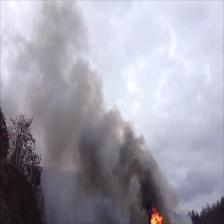smoke: (26, 24, 94, 210), (103, 106, 161, 211)
